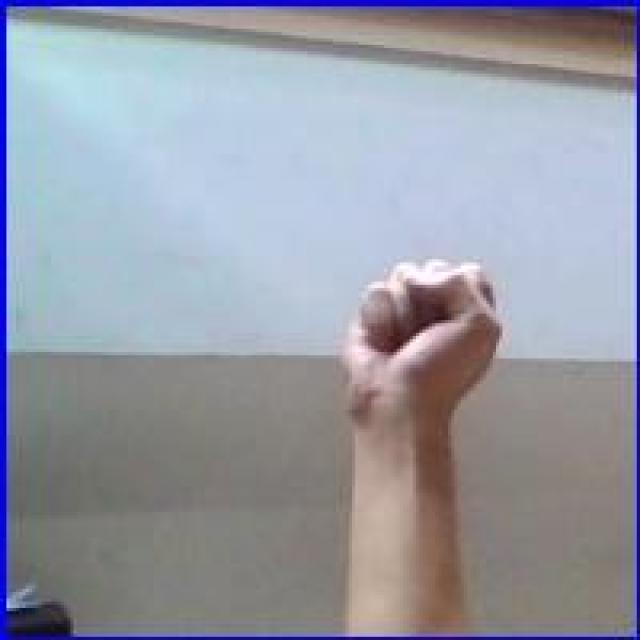S: (339, 253, 506, 435)
